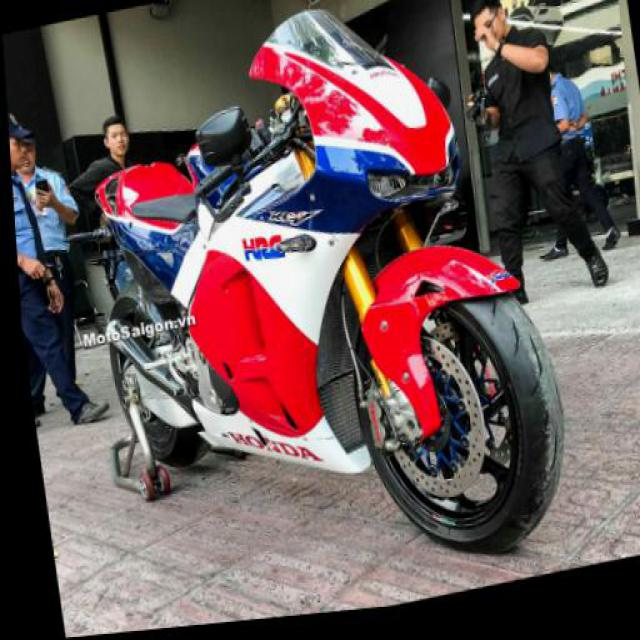HRC RCV 213: (60, 0, 579, 630)
